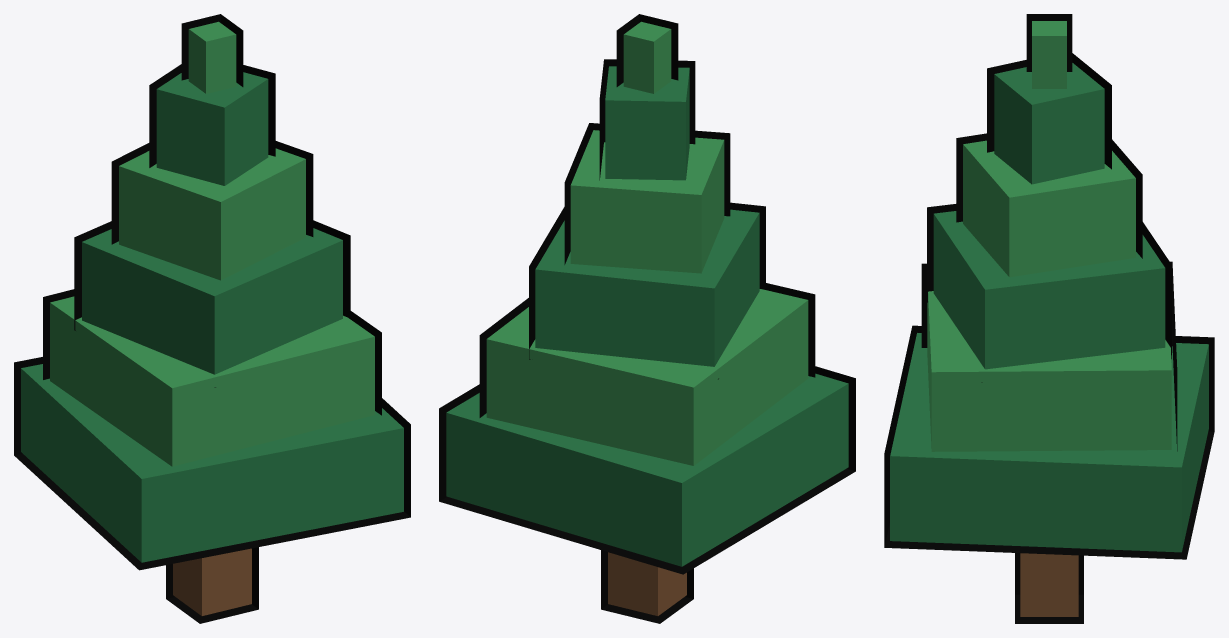
File: PineTree_2.fbx
3 renders of one model, left to right at view 1: azimuth 30°, elevation 25°; view 2: azimuth 150°, elevation 25°; view 3: azimuth 270°, elevation 25°, orthographic.
Parts seen in each view (by area): view 1: PineTree_2_Pine, PineTree_2_PineLight, PineTree_2_Outline, PineTree_2_Trunk; view 2: PineTree_2_Pine, PineTree_2_PineLight, PineTree_2_Outline, PineTree_2_Trunk; view 3: PineTree_2_Pine, PineTree_2_PineLight, PineTree_2_Outline, PineTree_2_Trunk.
Boxes of the visible parts, bbox=[...] form: PineTree_2_Pine: bbox=[21, 72, 403, 562]; PineTree_2_PineLight: bbox=[50, 21, 374, 466]; PineTree_2_Outline: bbox=[14, 14, 410, 623]; PineTree_2_Trunk: bbox=[173, 548, 251, 615]; PineTree_2_Pine: bbox=[446, 66, 848, 566]; PineTree_2_PineLight: bbox=[486, 21, 808, 465]; PineTree_2_Outline: bbox=[439, 14, 855, 623]; PineTree_2_Trunk: bbox=[608, 552, 686, 615]; PineTree_2_Pine: bbox=[890, 63, 1208, 552]; PineTree_2_PineLight: bbox=[927, 21, 1171, 451]; PineTree_2_Outline: bbox=[884, 14, 1214, 623]; PineTree_2_Trunk: bbox=[1020, 553, 1078, 616].
Bounding box in the file's own units: 11.27 × 22.06 × 11.27.
4 materials, 4 textured.
